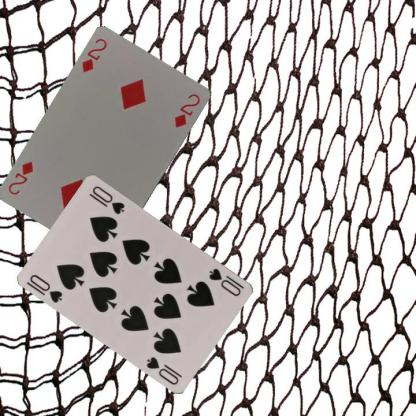10s: (206, 264, 246, 298), (27, 272, 64, 304)
2d: (79, 36, 109, 74)
